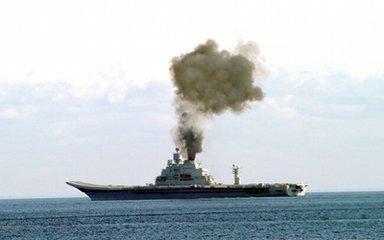smoke: (170, 38, 266, 158)
